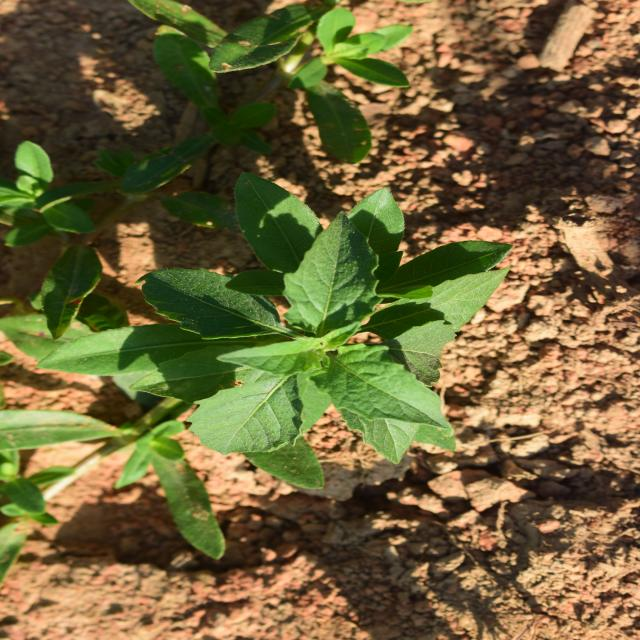Black_nightshade: (182, 121, 439, 467)
